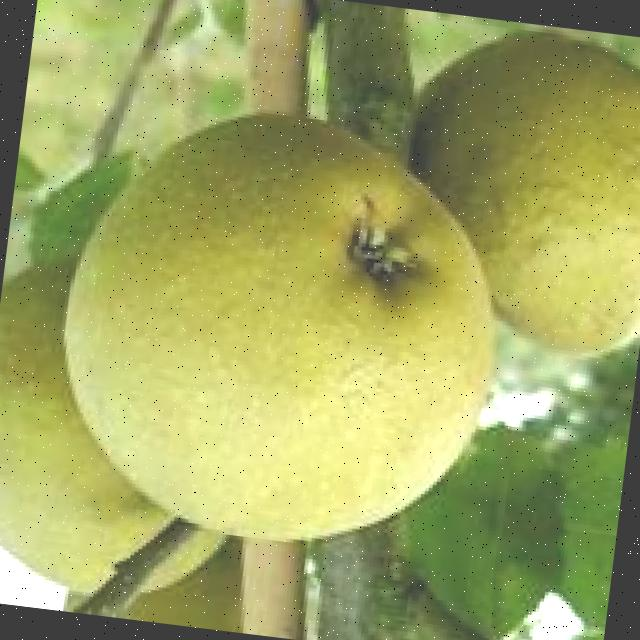apple: (42, 89, 521, 566)
